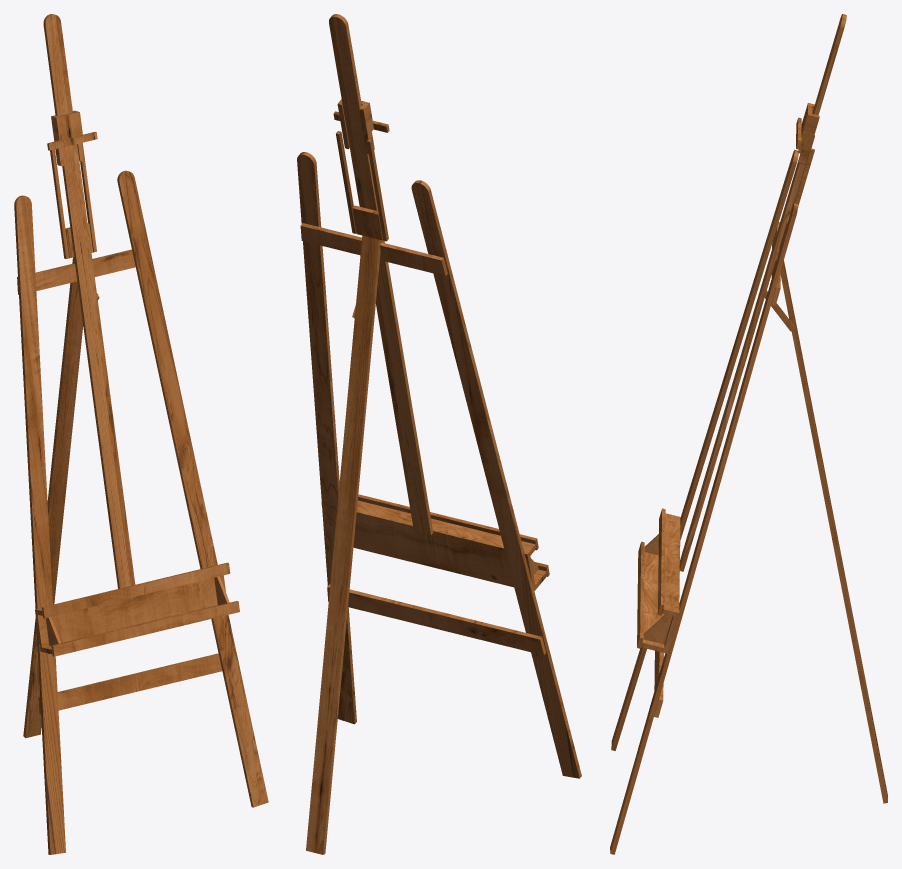
The model's file is Easel 2.FBX.
The picture shows the model from 3 angles, left to right: view 1: azimuth 30°, elevation 25°; view 2: azimuth 150°, elevation 25°; view 3: azimuth 270°, elevation 25°; orthographic projection. The views are drawn at different scales.
Visible parts, largest first — view 1: Easel 2; view 2: Easel 2; view 3: Easel 2.
Boxes of the visible parts, x1,y1,x2,y2 form: Easel 2: [14, 14, 268, 854]; Easel 2: [297, 14, 581, 854]; Easel 2: [610, 14, 887, 854].
Bounding box in the file's own units: 66.17 × 214 × 68.63.
Materials: 1 (1 with a texture image).
